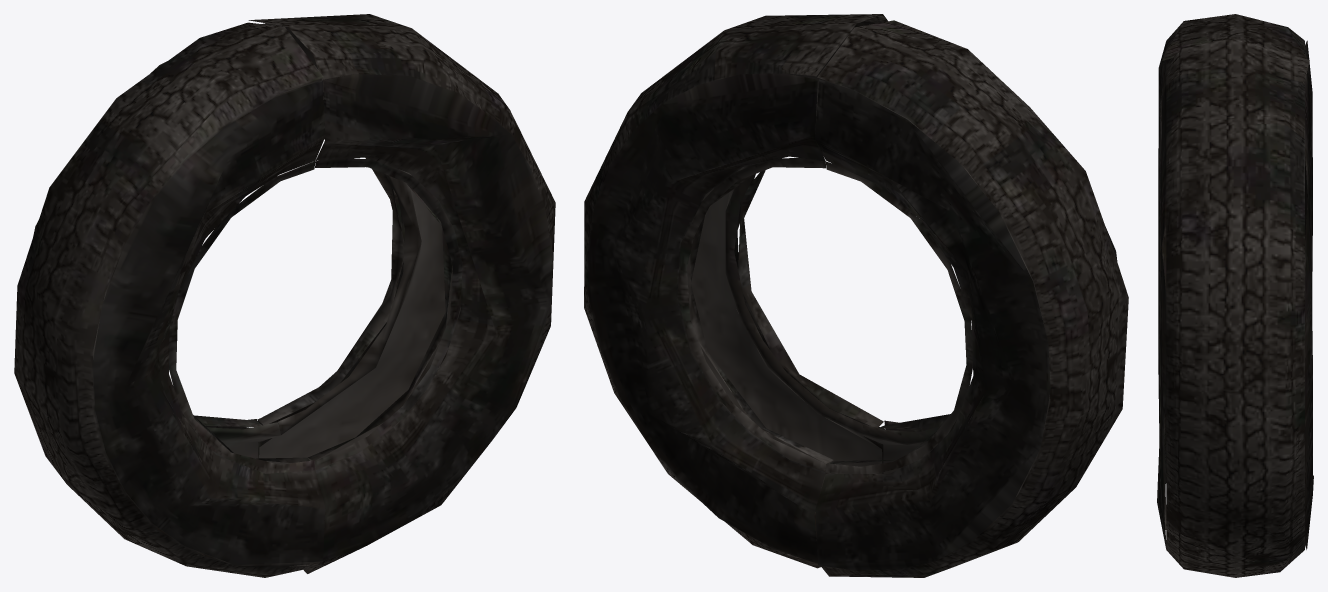
Rendered from tyre.glb.
3 views of the same model, side by side, from view 1: azimuth 30°, elevation 25°; view 2: azimuth 150°, elevation 25°; view 3: azimuth 270°, elevation 25° (orthographic). The views are drawn at different scales.
Visible parts, largest first — view 1: old_tyre; view 2: old_tyre; view 3: old_tyre.
Boxes of the visible parts, x1=… form: old_tyre: x1=14, y1=14, x2=555, y2=577; old_tyre: x1=584, y1=14, x2=1128, y2=577; old_tyre: x1=1157, y1=14, x2=1313, y2=577.
Bounding box in the file's own units: 0.5978 × 0.6095 × 0.1687.
1 material, 1 textured.
